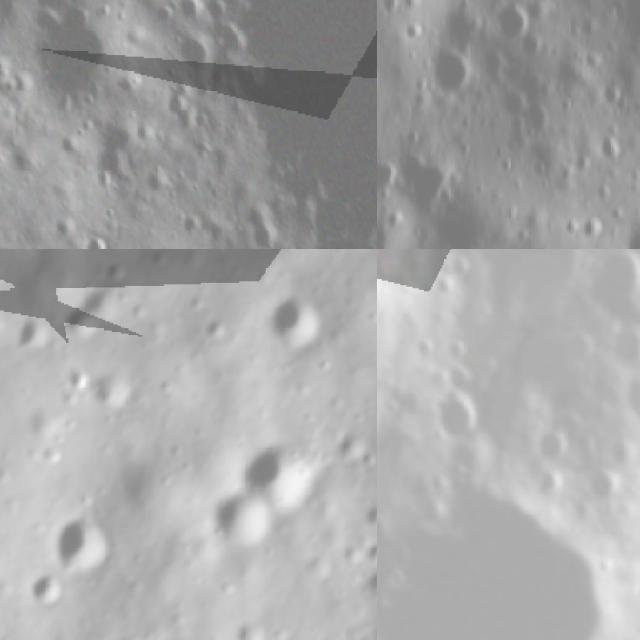crater: (219, 0, 377, 235), (377, 488, 619, 640), (29, 4, 138, 108), (246, 429, 320, 506), (40, 507, 117, 573), (55, 279, 124, 350), (428, 378, 493, 448), (422, 41, 485, 106), (205, 490, 269, 553), (263, 291, 326, 353), (586, 249, 640, 315), (483, 0, 540, 49), (174, 24, 216, 80), (16, 306, 58, 358), (91, 366, 137, 412), (584, 466, 632, 508), (26, 565, 74, 605), (604, 326, 640, 372), (534, 424, 573, 466), (335, 426, 371, 464), (530, 466, 566, 504), (64, 358, 99, 394), (444, 365, 481, 399), (618, 379, 640, 430), (397, 15, 429, 49), (427, 274, 458, 304), (231, 615, 268, 640), (447, 258, 475, 283), (202, 317, 230, 338), (194, 0, 235, 11), (80, 235, 111, 249), (377, 57, 386, 102), (365, 537, 377, 568)
